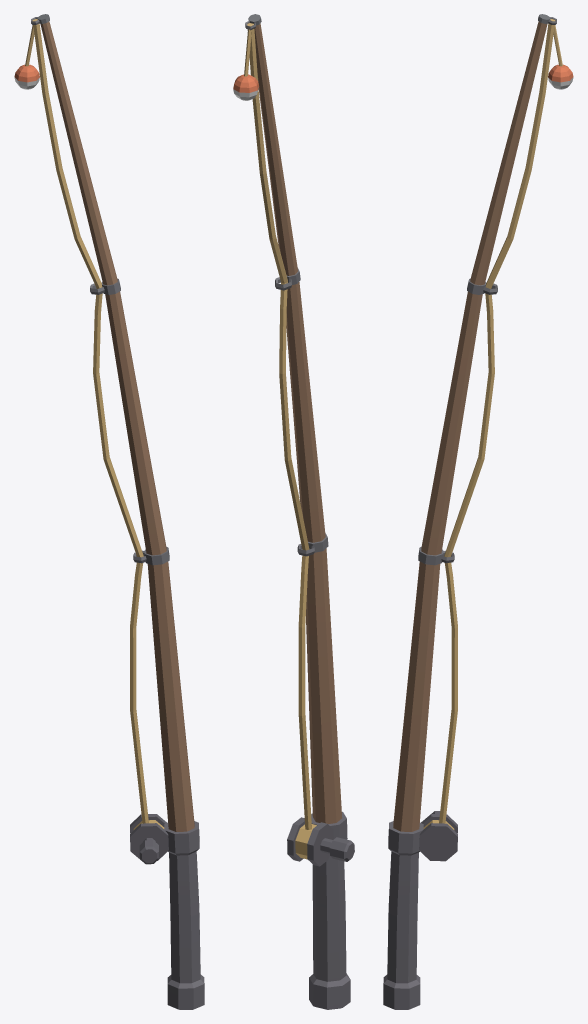
The model's file is FishingRod_01.fbx.
The picture shows the model from 3 angles, left to right: view 1: azimuth 90°, elevation 25°; view 2: azimuth 150°, elevation 25°; view 3: azimuth 270°, elevation 25°; orthographic projection. The views are drawn at different scales.
Visible parts, largest first — view 1: FishingRod_01; view 2: FishingRod_01; view 3: FishingRod_01.
Boxes of the visible parts, x1,y1,x2,y2 form: FishingRod_01: (14, 14, 204, 1009); FishingRod_01: (233, 14, 354, 1009); FishingRod_01: (383, 14, 573, 1009).
Bounding box in the file's own units: 8.58 × 149 × 26.04.
